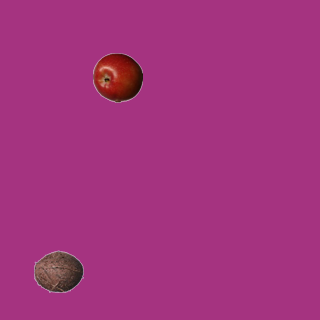Apple Braeburn: (92, 52, 142, 102)
Cocos: (33, 246, 83, 296)
